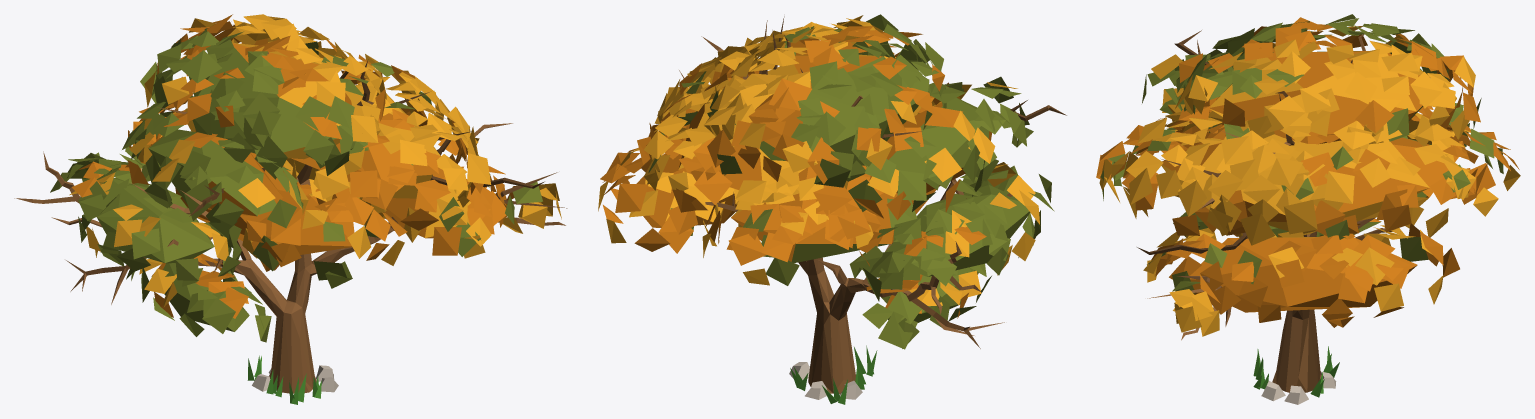
File: elm_1_autumn.glb
The picture shows the model from 3 angles, left to right: view 1: azimuth 30°, elevation 25°; view 2: azimuth 150°, elevation 25°; view 3: azimuth 270°, elevation 25°; orthographic projection. The views are drawn at different scales.
Visible parts, largest first — view 1: elm_1_autumn; view 2: elm_1_autumn; view 3: elm_1_autumn.
Boxes of the visible parts, <box> form: elm_1_autumn: <box>14,14,567,404</box>; elm_1_autumn: <box>598,14,1066,404</box>; elm_1_autumn: <box>1096,14,1520,404</box>.
Size of the model in its own units: 8.38 by 6.36 by 7.03.
